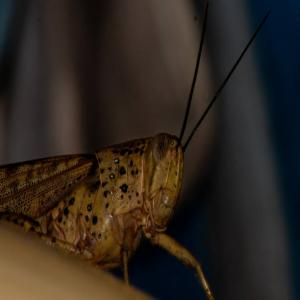locust: (1, 93, 216, 247)
